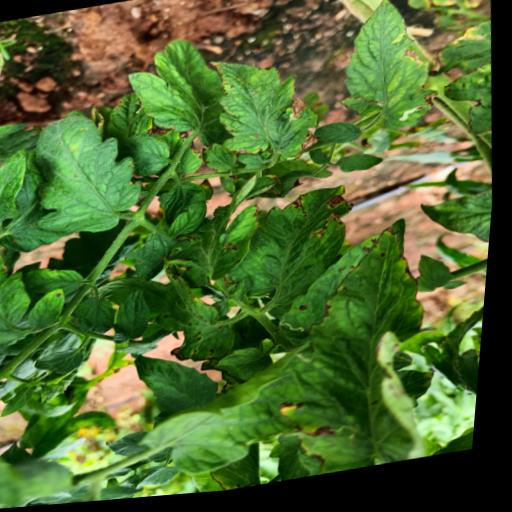Early Blight: (221, 187, 368, 319), (198, 45, 330, 178), (138, 253, 247, 378), (0, 231, 78, 351)
